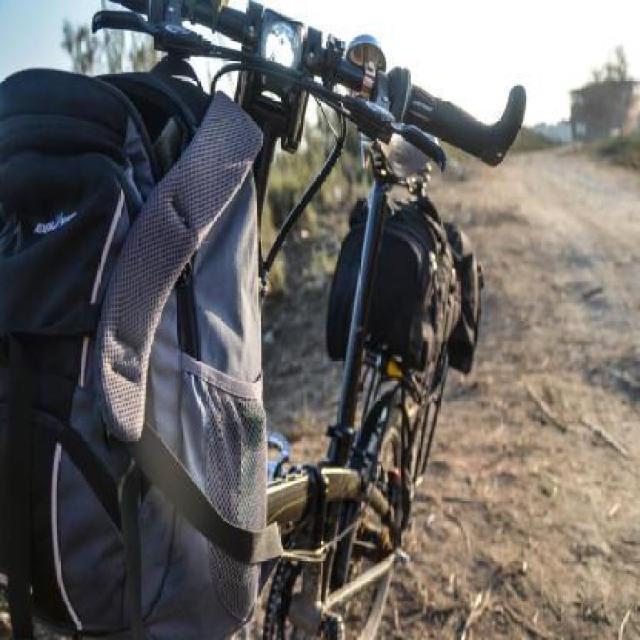backpack: (0, 54, 271, 640)
